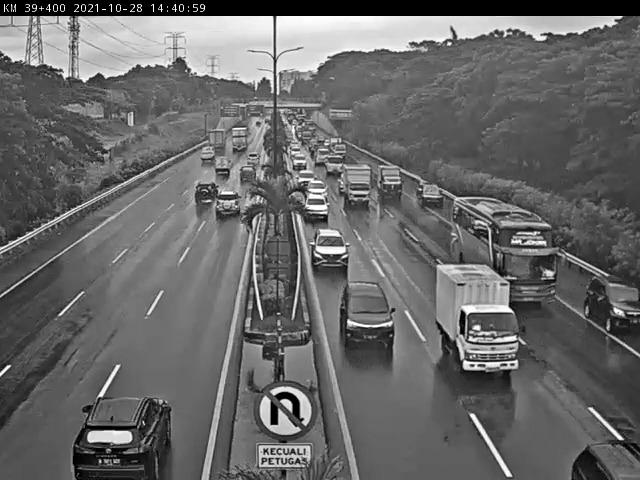big bus: (449, 195, 558, 305)
car: (71, 395, 179, 480), (338, 279, 396, 346), (584, 273, 640, 331), (310, 228, 350, 269), (213, 189, 242, 216), (302, 193, 330, 220), (416, 182, 444, 206), (193, 180, 219, 204)
mid truck: (435, 262, 521, 374)
